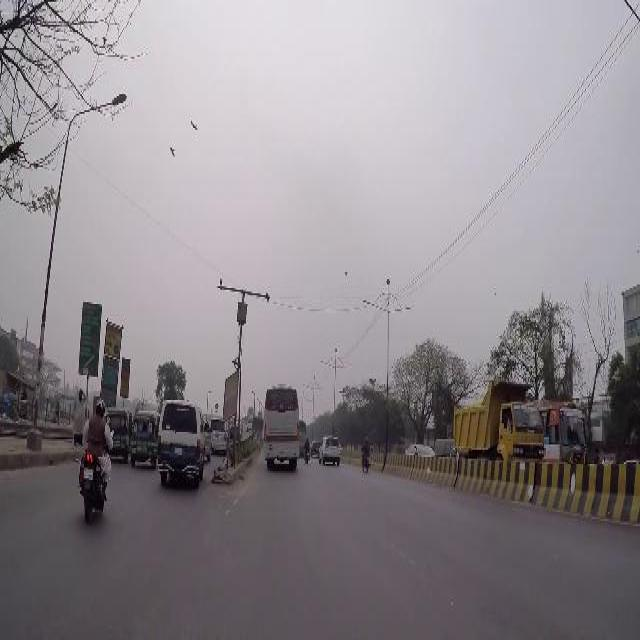10: (76, 394, 114, 522), (360, 435, 370, 472), (303, 436, 311, 464)
17: (130, 408, 158, 467), (105, 406, 131, 462)
18: (452, 377, 544, 459)
19: (157, 398, 205, 492), (210, 416, 226, 452)
5: (316, 435, 339, 465), (404, 442, 434, 460), (310, 438, 320, 458)
Truck: (530, 399, 586, 461), (262, 383, 298, 470)
